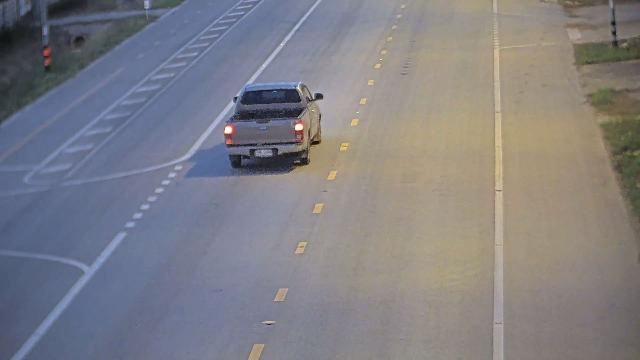pickup-truck: (223, 80, 324, 168)
